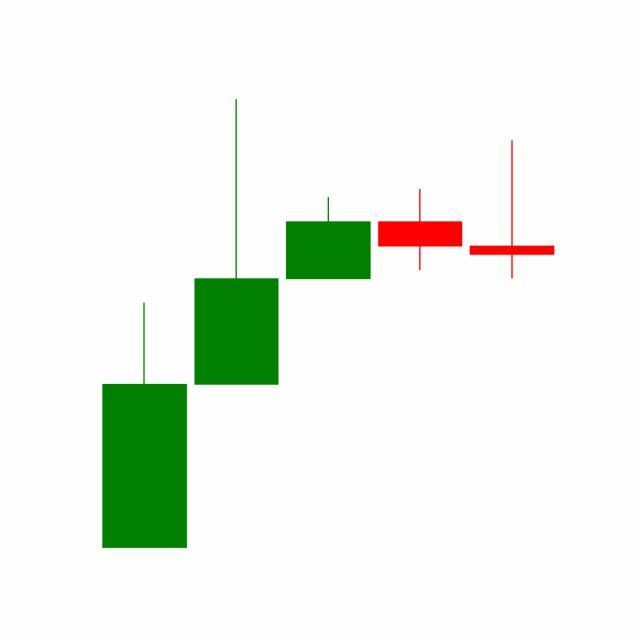Spinning Top: (466, 138, 559, 281)
